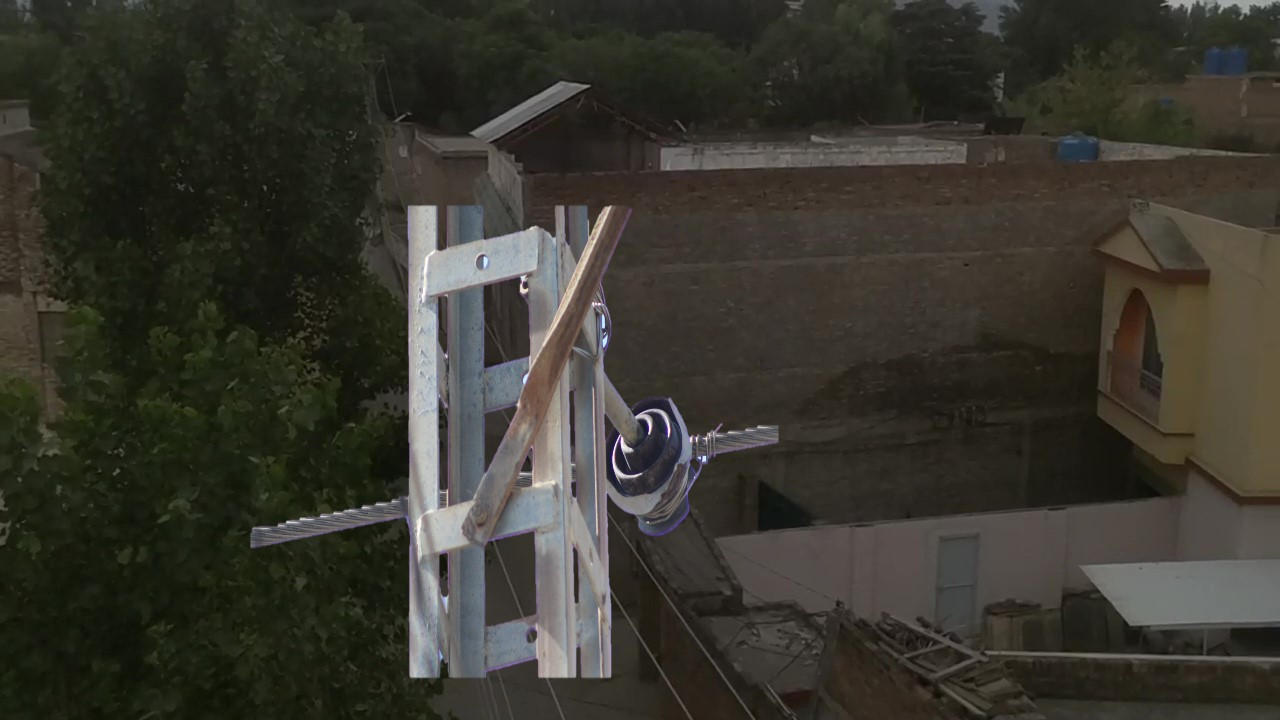defect_pin: (603, 386, 709, 547)
